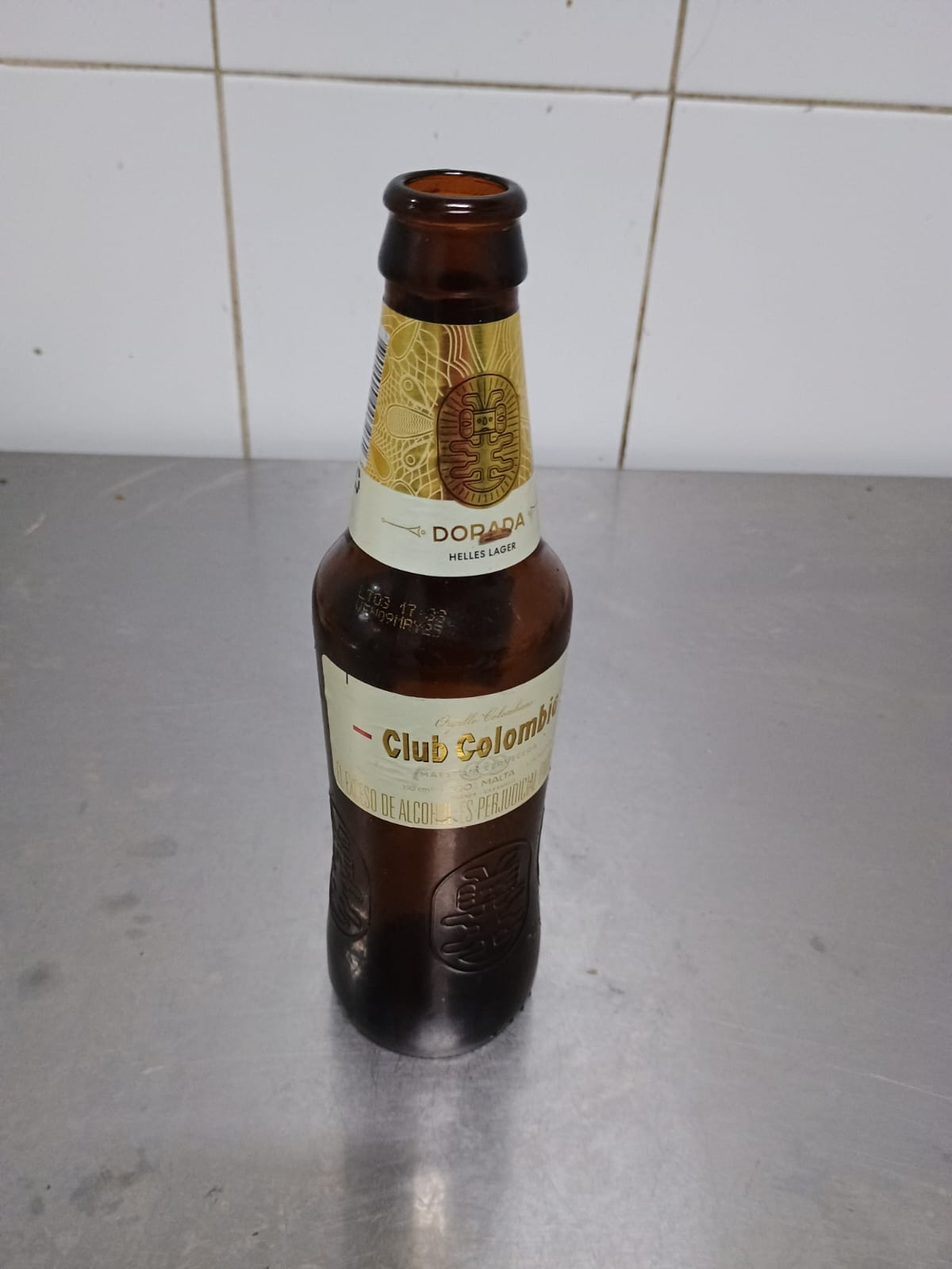Vidrio: (310, 168, 577, 1060)
